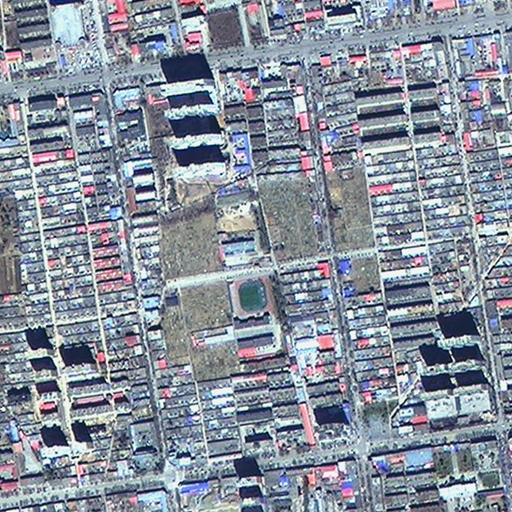school: (226, 272, 278, 352)
